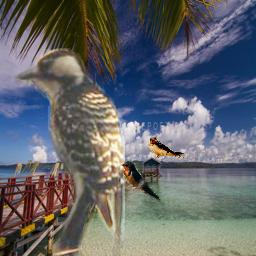Swallow: (119, 160, 164, 204), (148, 136, 189, 161)
Woodpecker: (14, 48, 125, 256)
